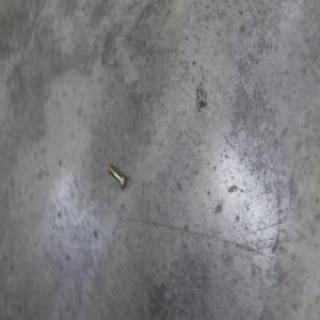Bolttrack_idkeyframe: (106, 162, 127, 189)
